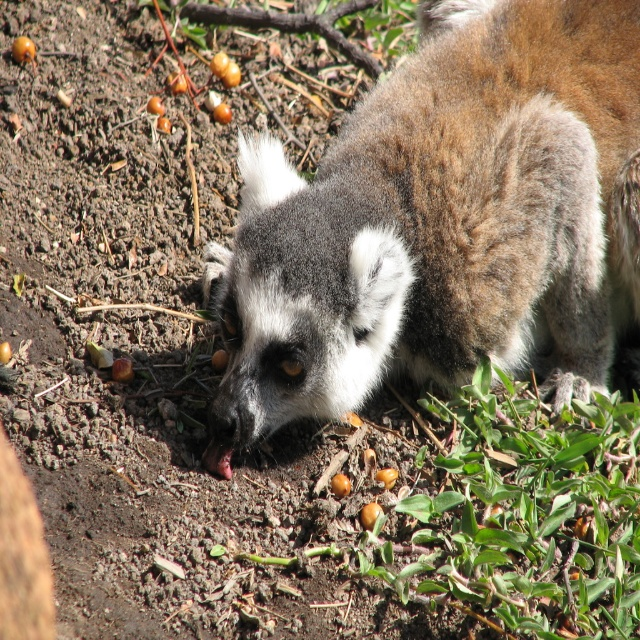Raccoon: (203, 0, 640, 481)
